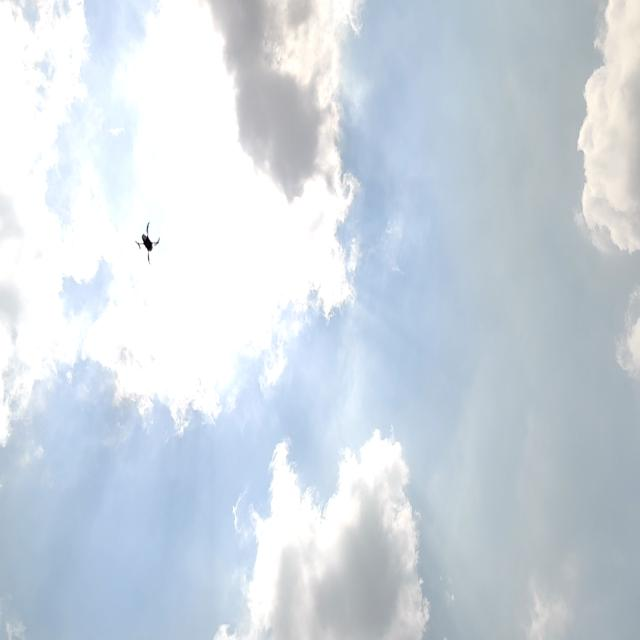drone: (128, 213, 162, 264)
